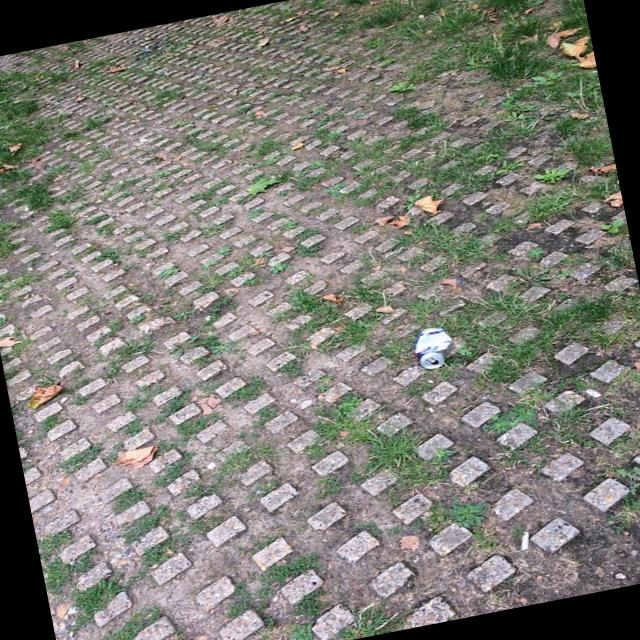Recycle: (396, 312, 472, 381)
